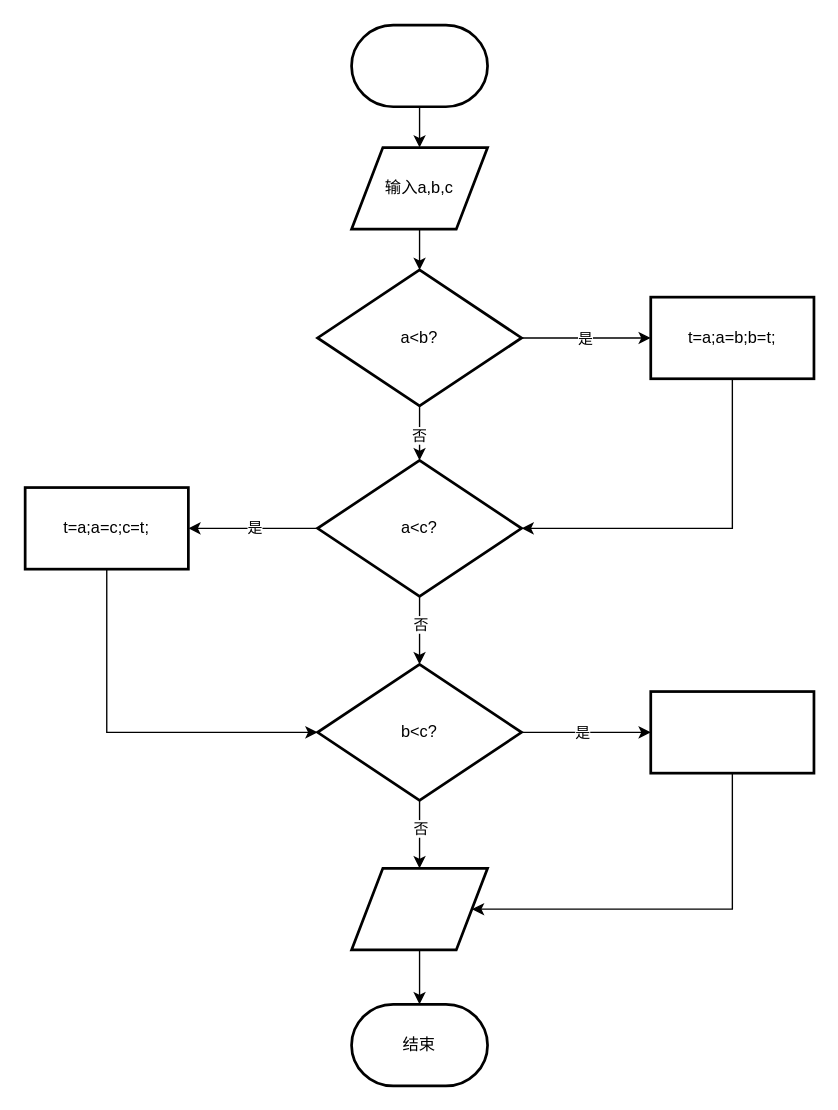
The diagram is 838 pixels wide and 1110 high, and some of its shapes have lost their labels. Here are the shapes that lost their labels. From the top down, the box of each, then its label:
(350, 23, 488, 107): 开始
(649, 690, 815, 774): t=b;b=c;c=t;
(350, 866, 488, 951): 输出a,b,c
